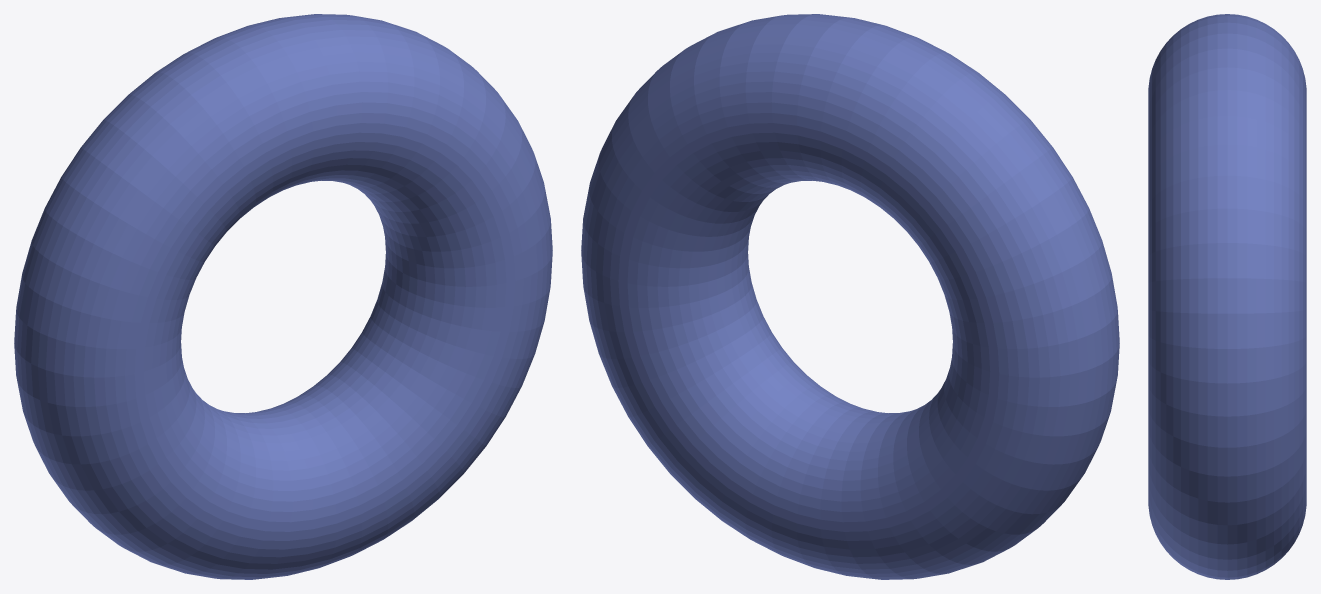
3 renders of one model, left to right at view 1: azimuth 30°, elevation 25°; view 2: azimuth 150°, elevation 25°; view 3: azimuth 270°, elevation 25°, orthographic. The views are drawn at different scales.
Parts seen in each view (by area): view 1: world; view 2: world; view 3: world.
Part boxes in pixels (<box>): world: <box>14,14,552,579</box>; world: <box>581,14,1119,579</box>; world: <box>1148,14,1306,579</box>.
Size of the model in its own units: 16.67 by 16.63 by 4.66.
